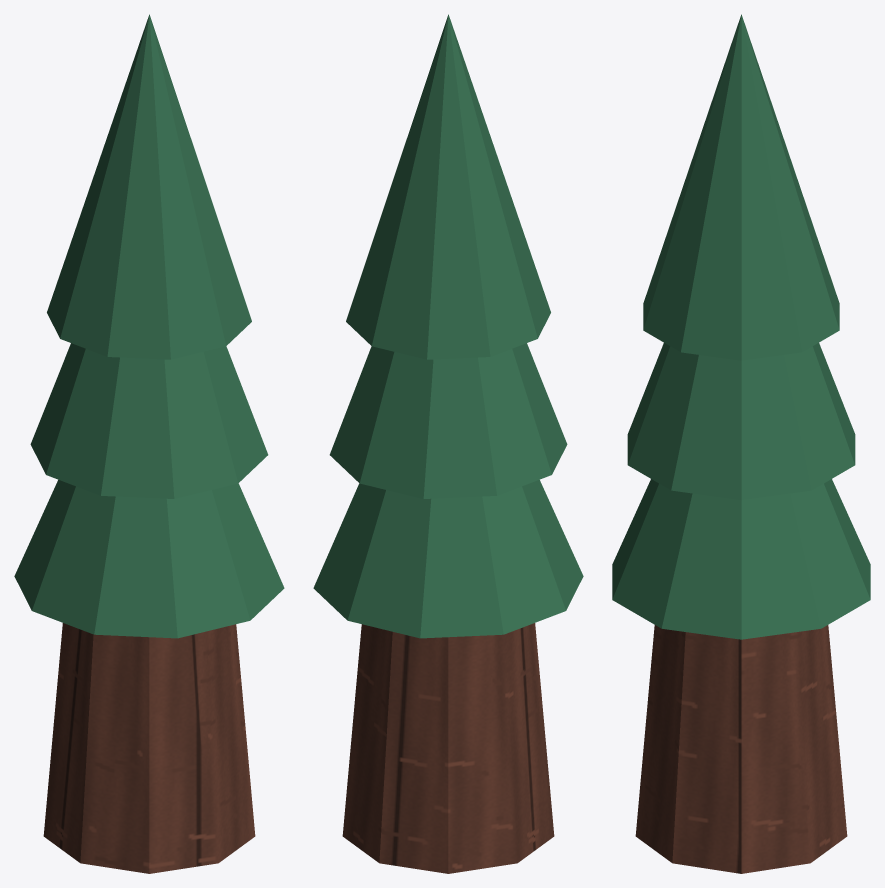
Rendered from juniper.glb.
3 renders of one model, left to right at view 1: azimuth 30°, elevation 25°; view 2: azimuth 150°, elevation 25°; view 3: azimuth 270°, elevation 25°, orthographic.
Visible parts, largest first — view 1: 0_jade, 0_woodTex; view 2: 0_jade, 0_woodTex; view 3: 0_jade, 0_woodTex.
Boxes of the visible parts, x1,y1,x2,y2 form: 0_jade: (14, 14, 284, 638); 0_woodTex: (43, 623, 255, 873); 0_jade: (313, 14, 583, 638); 0_woodTex: (342, 623, 554, 873); 0_jade: (612, 14, 870, 639); 0_woodTex: (635, 625, 847, 873).
Bounding box in the file's own units: 0.91 × 3.01 × 0.8655.
2 materials, 1 textured.
